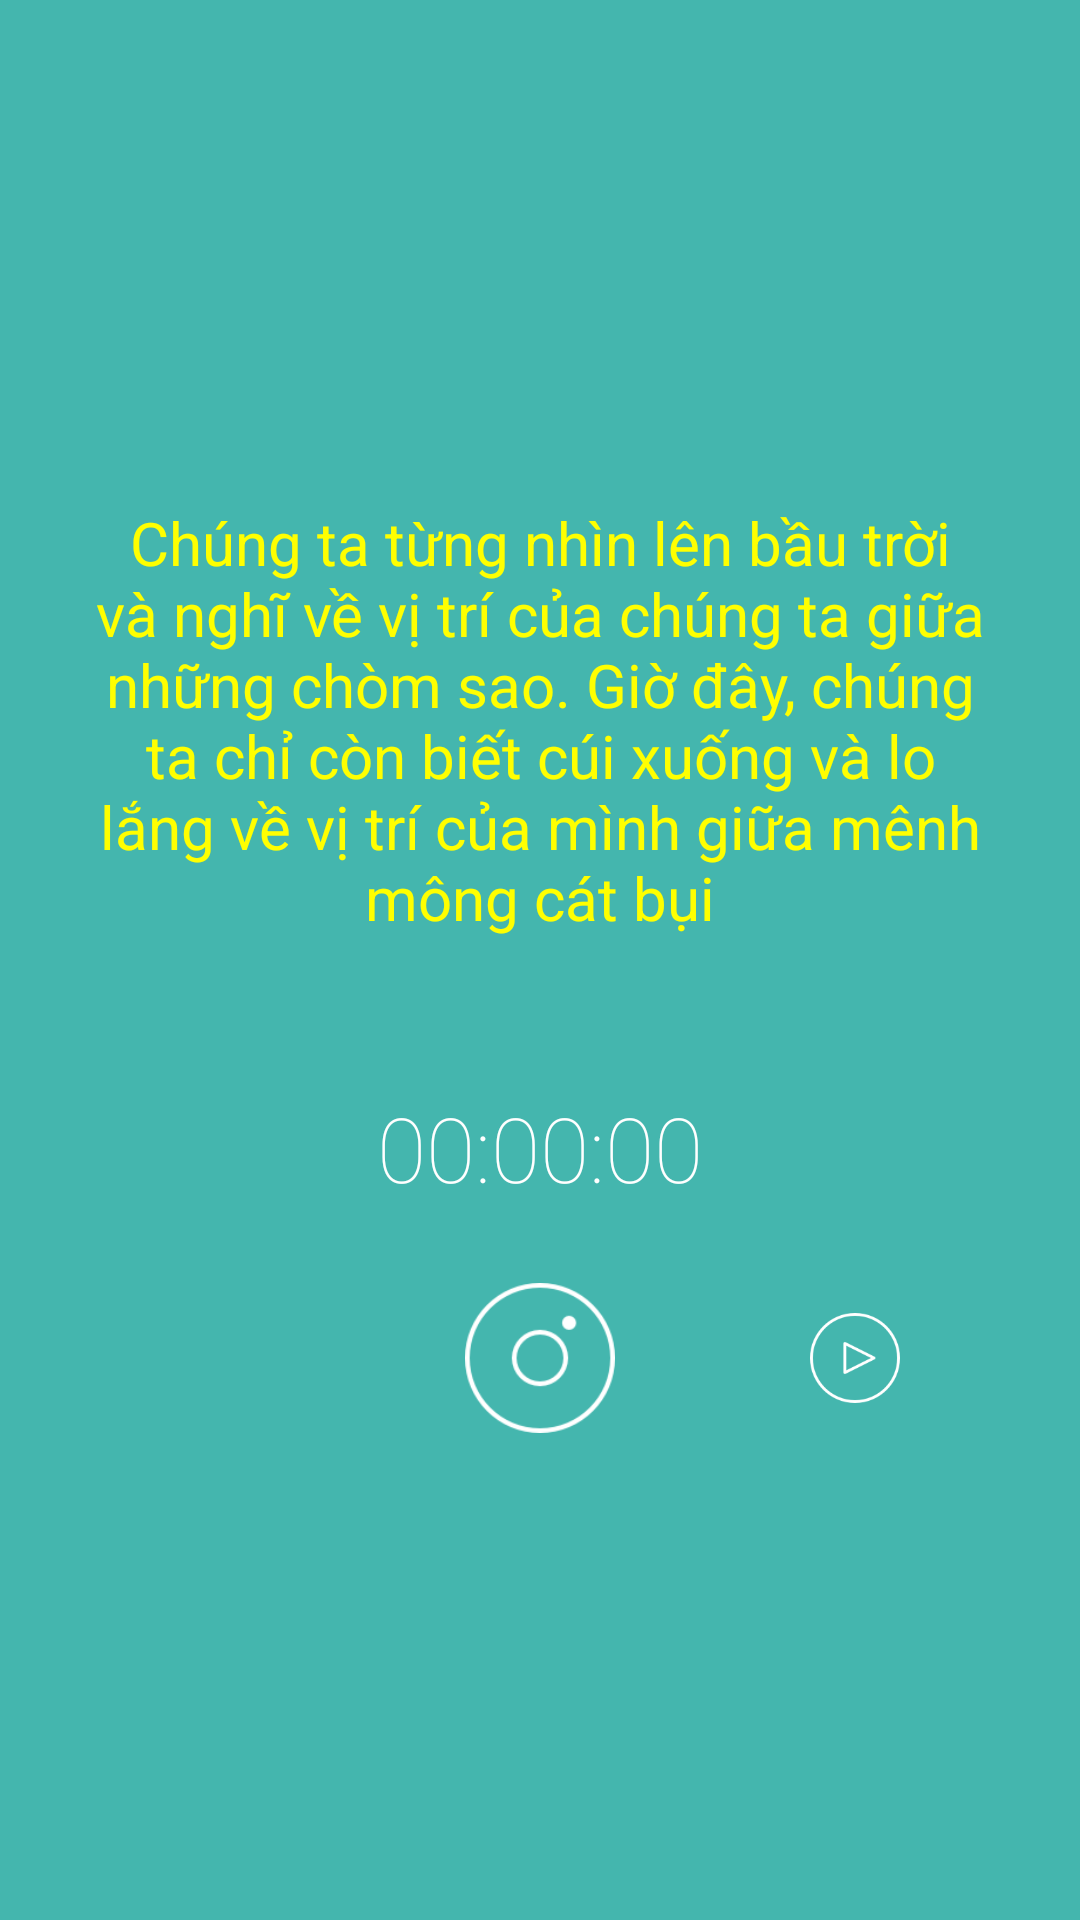

Icons on this 1080px x 1920px Android screen, each with the point to tap as (x,y):
aar play: (855,1358)
aar rec: (540,1358)
